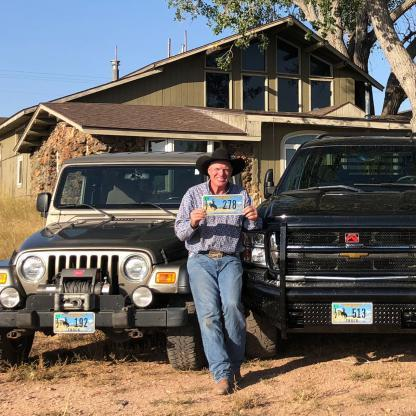License-Plate: (53, 311, 96, 335), (202, 193, 244, 217), (331, 302, 373, 325)
